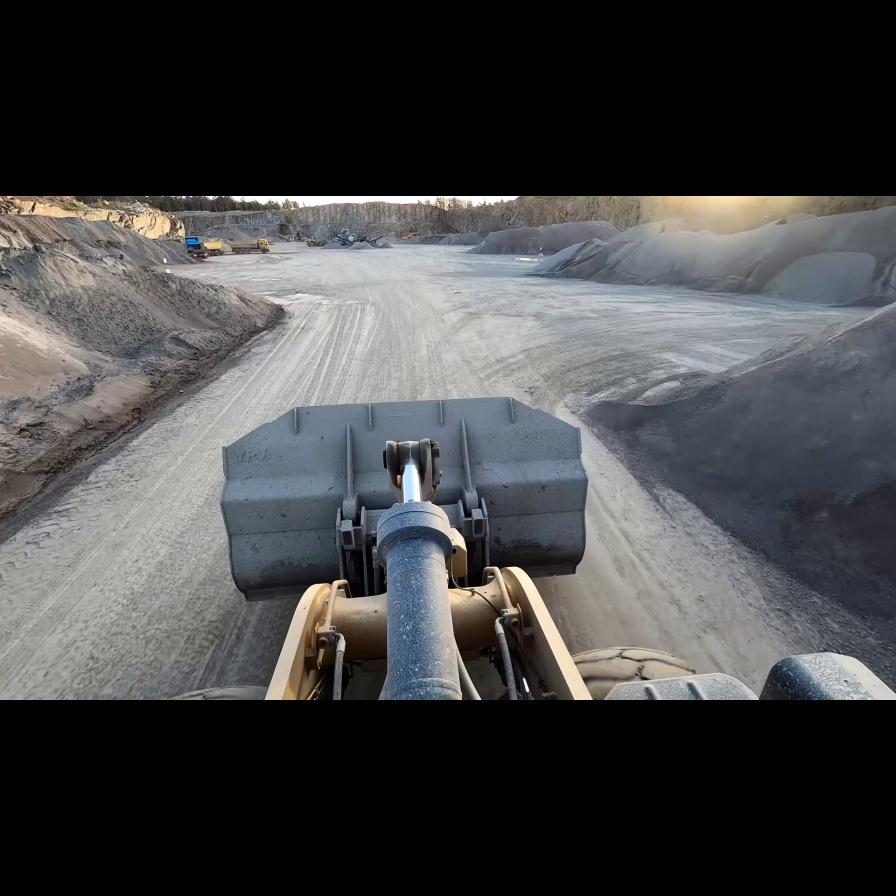anchor: (384, 438, 441, 503)
pile of gravel: (591, 274, 894, 621), (0, 209, 292, 546), (524, 203, 890, 303), (5, 207, 201, 279), (472, 221, 618, 257), (535, 236, 629, 280), (418, 231, 483, 248), (369, 238, 394, 248), (320, 239, 347, 248), (349, 241, 368, 249)
